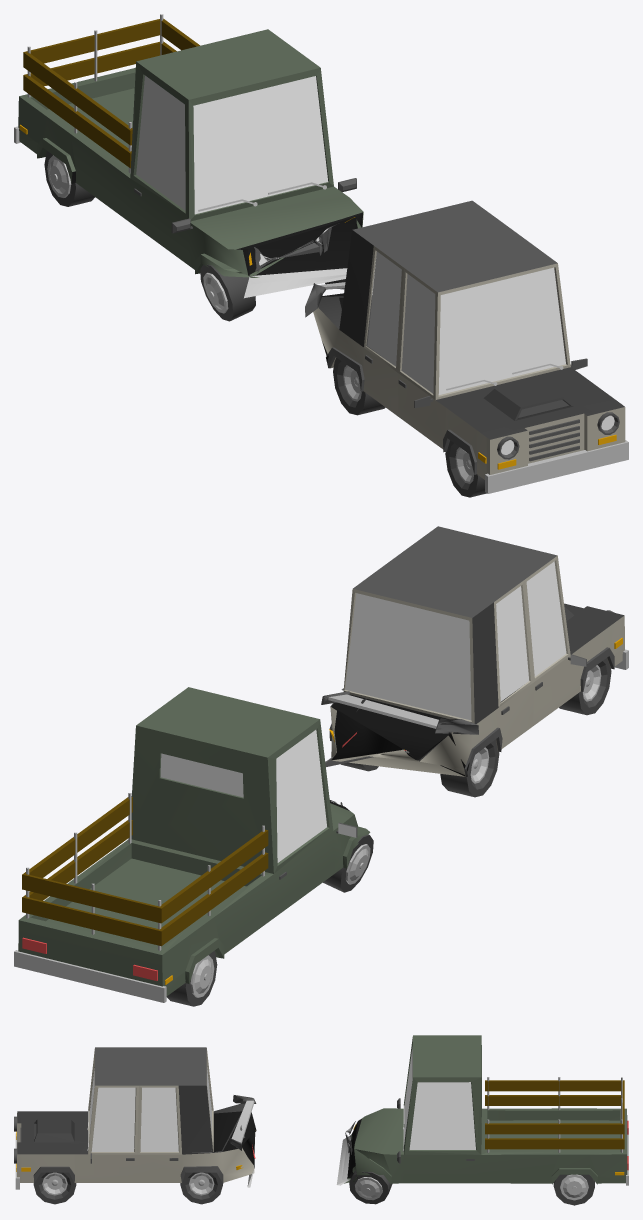
Rendered from CrashHood05.fbx.
The picture shows the model from 3 angles, top to bottom: view 1: azimuth 30°, elevation 25°; view 2: azimuth 150°, elevation 25°; view 3: azimuth 270°, elevation 25°; orthographic projection. The views are drawn at different scales.
Visible parts, largest first — view 1: Hood, Hood.001, Glass, Glass.001, Wheel_front_right, Wheel_back_right.001, Wheel_back_right, Wheel_front_right.001; view 2: Hood, Hood.001, Glass.001, Glass, Wheel_back_right.001, Wheel_front_right.001, Wheel_back_right, Wheel_front_right; view 3: Hood, Hood.001, Glass.001, Glass, Wheel_back_right_1, Wheel_front_right_1, Wheel_back_left, Wheel_front_left.
Part boxes in pixels (left/top/right/bottom): Hood: left=14, top=14, right=363, bottom=298; Hood.001: left=305, top=200, right=628, bottom=493; Glass: left=136, top=75, right=328, bottom=214; Glass.001: left=367, top=251, right=565, bottom=394; Wheel_front_right: left=200, top=264, right=255, bottom=321; Wheel_back_right.001: left=333, top=357, right=385, bottom=415; Wheel_back_right: left=44, top=151, right=94, bottom=206; Wheel_front_right.001: left=445, top=440, right=486, bottom=497; Hood: left=14, top=687, right=370, bottom=1002; Hood.001: left=321, top=526, right=628, bottom=776; Glass.001: left=345, top=561, right=566, bottom=720; Glass: left=160, top=730, right=326, bottom=862; Wheel_back_right.001: left=440, top=739, right=499, bottom=797; Wheel_front_right.001: left=559, top=658, right=611, bottom=715; Wheel_back_right: left=166, top=951, right=217, bottom=1006; Wheel_front_right: left=323, top=834, right=373, bottom=892; Hood: left=336, top=1035, right=628, bottom=1185; Hood.001: left=14, top=1047, right=256, bottom=1189; Glass.001: left=89, top=1067, right=211, bottom=1151; Glass: left=404, top=1047, right=475, bottom=1149; Wheel_back_right_1: left=180, top=1172, right=222, bottom=1204; Wheel_front_right_1: left=33, top=1172, right=76, bottom=1204; Wheel_back_left: left=553, top=1174, right=594, bottom=1205; Wheel_front_left: left=349, top=1170, right=392, bottom=1204.
Size of the model in its own units: 55.03 by 55.95 by 244.
